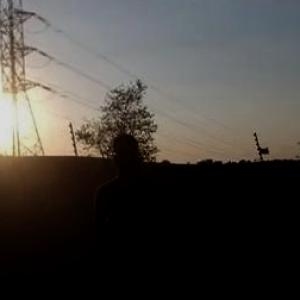follow: (90, 126, 172, 299)
